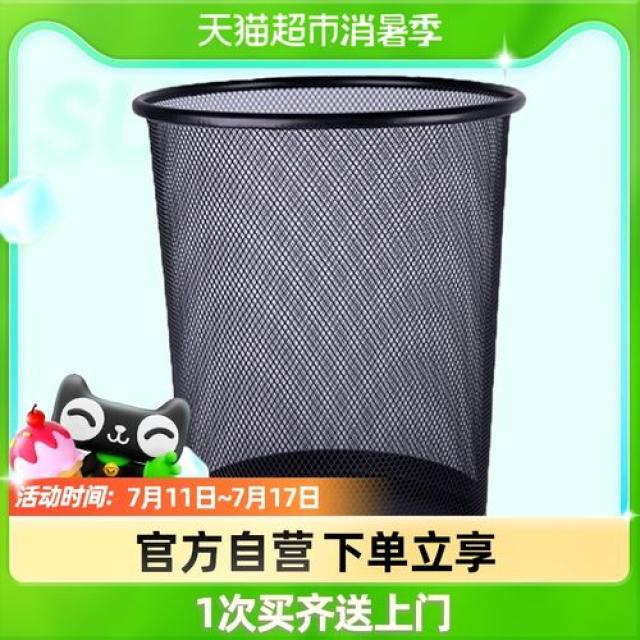dustbin: (131, 69, 529, 517)
